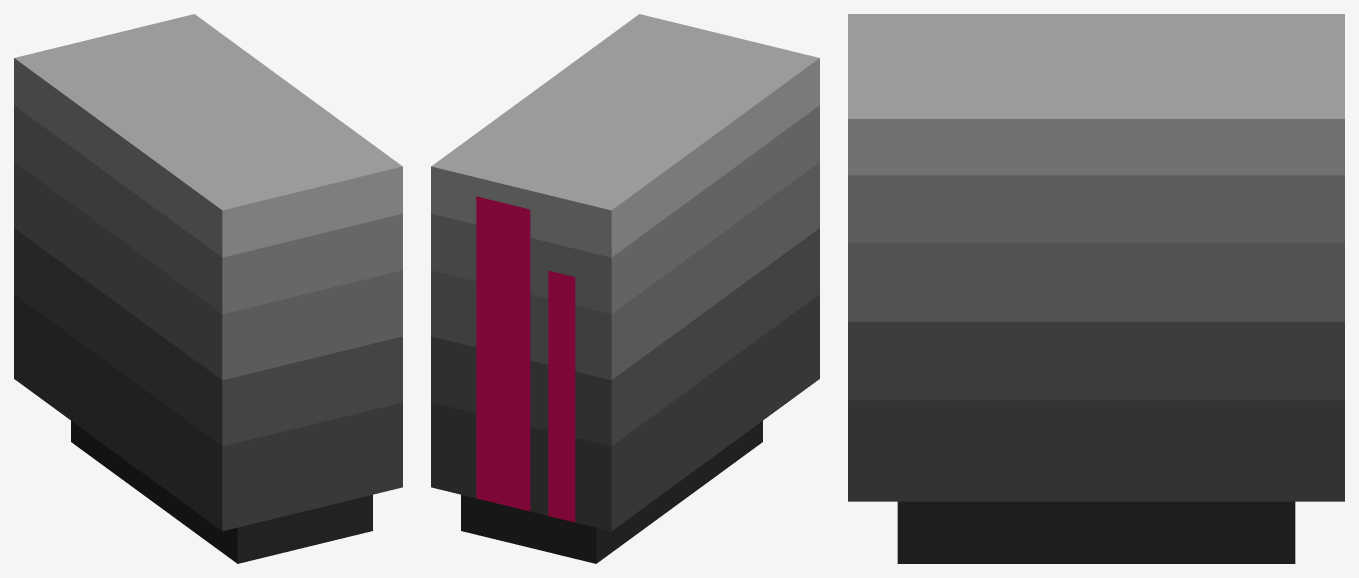
The model's file is PuertaRightTop.FBX.
The picture shows the model from 3 angles, left to right: view 1: azimuth 30°, elevation 25°; view 2: azimuth 150°, elevation 25°; view 3: azimuth 270°, elevation 25°; orthographic projection. The views are drawn at different scales.
Visible parts, largest first — view 1: PuertaRightTop; view 2: PuertaRightTop; view 3: PuertaRightTop.
Part boxes in pixels (x1,y1,x2,y2): PuertaRightTop: (14, 14, 402, 563); PuertaRightTop: (431, 14, 819, 563); PuertaRightTop: (848, 14, 1344, 563).
Size of the model in its own units: 0.5 by 1 by 1.
1 material, 1 textured.
